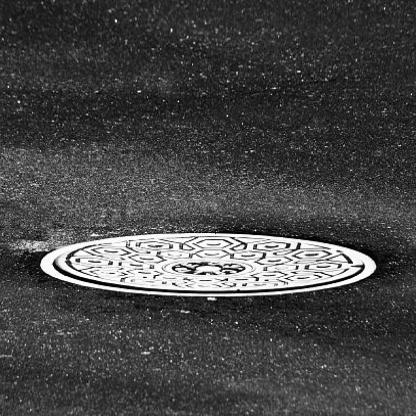manholes: (31, 212, 390, 325)
